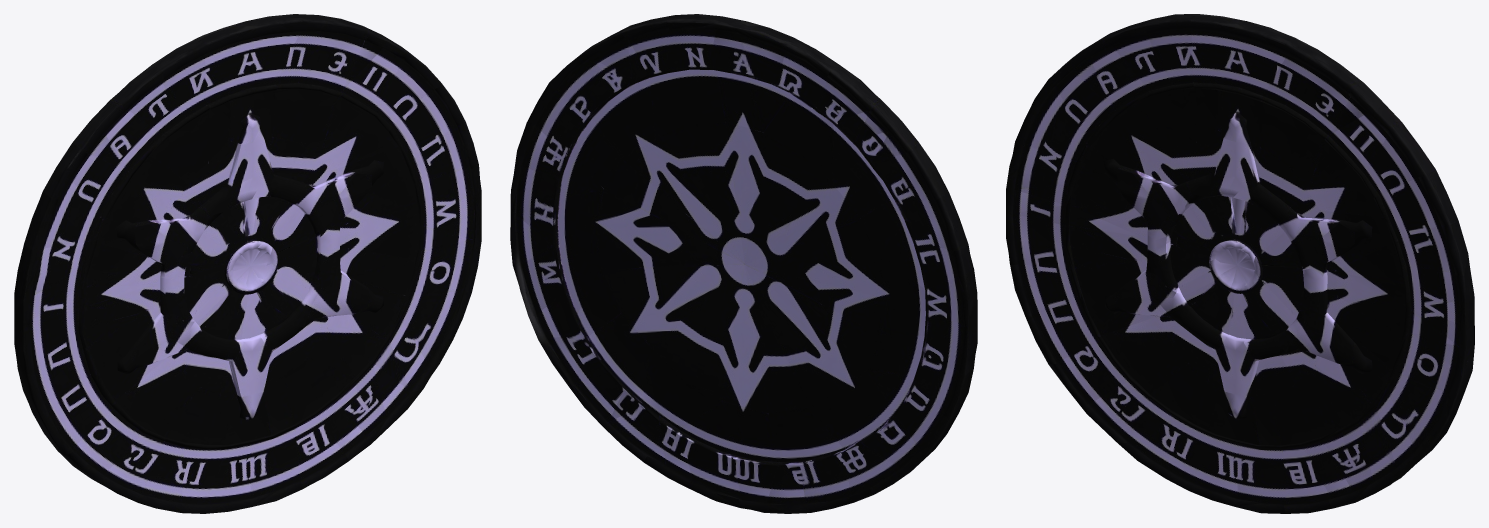
The model's file is gravity-seal.glb.
The picture shows the model from 3 angles, left to right: view 1: azimuth 30°, elevation 25°; view 2: azimuth 150°, elevation 25°; view 3: azimuth 330°, elevation 25°; orthographic projection.
Bounding box in the file's own units: 1 × 1 × 0.0403.
1 material, 1 textured.
